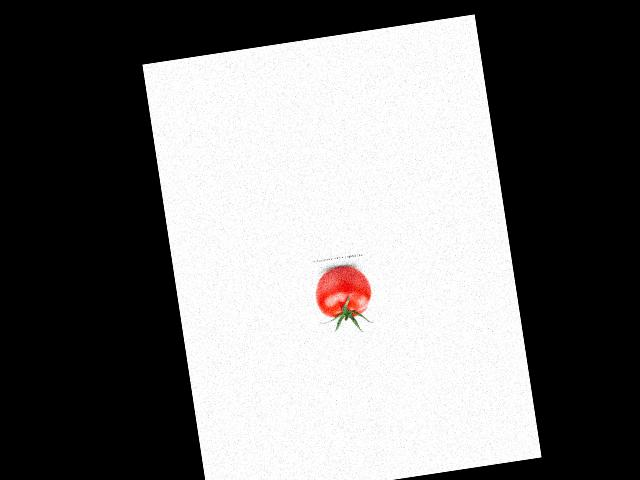tomato: (312, 263, 375, 321)
